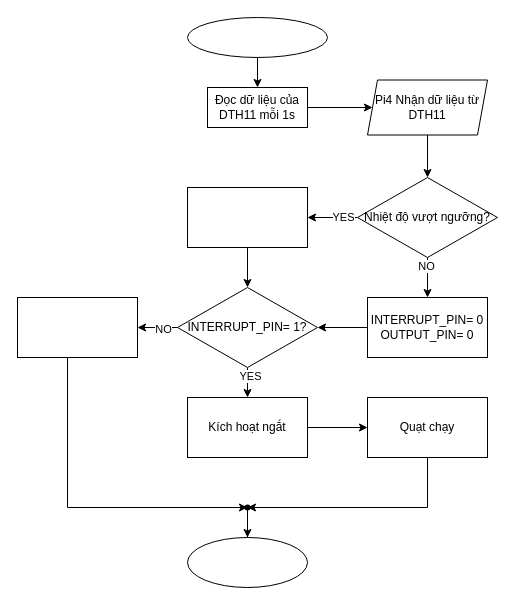
This 515x605 diagram has some shape labels left out. The centre of each missing label's shape, as x and y in pixels:
"INTERRUPT_PIN= 1" belongs at (x=247, y=217).
"Không kích hoạt ngắt" belongs at (x=77, y=327).
"Kết Thúc" belongs at (x=247, y=562).
"Start" belongs at (x=257, y=37).
